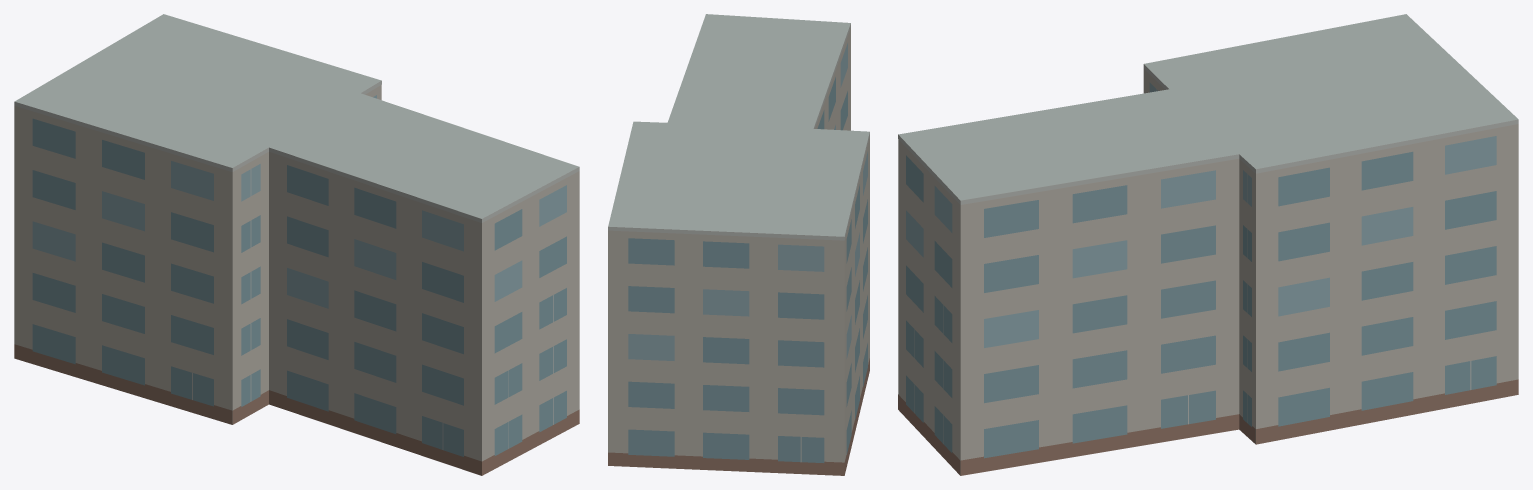
Rendered from survey-upis-32495226.glb.
The picture shows the model from 3 angles, left to right: view 1: azimuth 30°, elevation 25°; view 2: azimuth 150°, elevation 25°; view 3: azimuth 270°, elevation 25°; orthographic projection. The views are drawn at different scales.
Visible parts, largest first — view 1: survey-upis-32495226.tmp; view 2: survey-upis-32495226.tmp; view 3: survey-upis-32495226.tmp.
Boxes of the visible parts, box(x1,y1,x2,y2) form: survey-upis-32495226.tmp: box(14, 14, 579, 475); survey-upis-32495226.tmp: box(608, 14, 869, 475); survey-upis-32495226.tmp: box(898, 14, 1518, 475).
Bounding box in the file's own units: 22.04 × 15.15 × 30.96.
